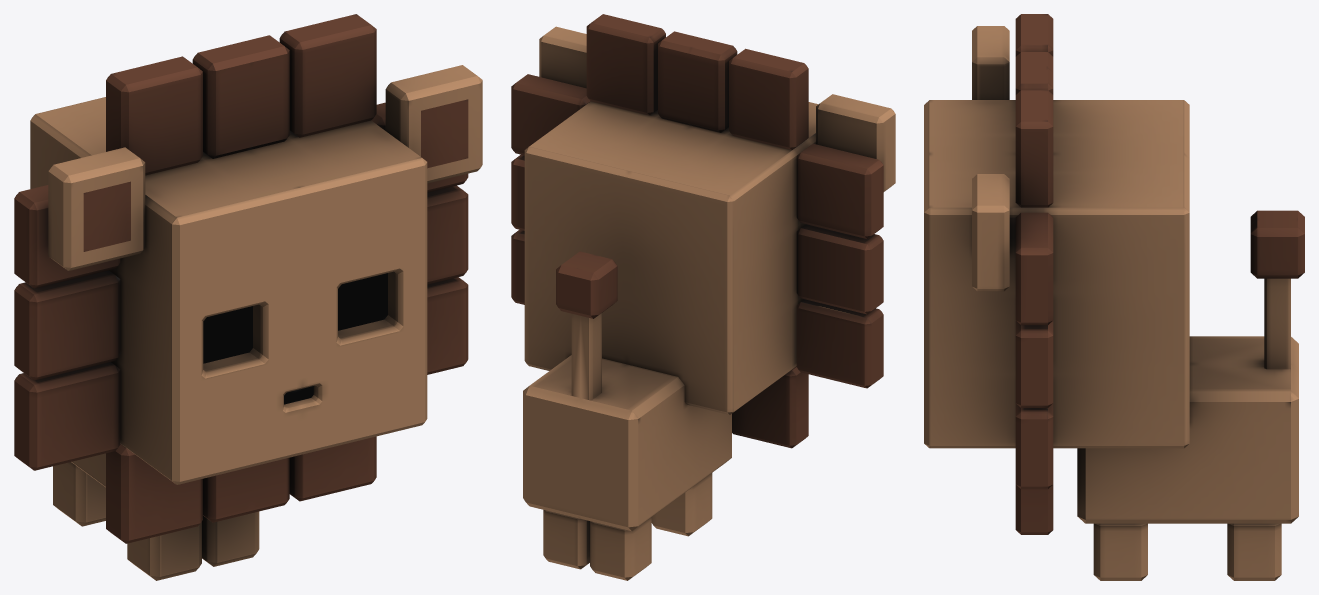
File: Lion.FBX
The picture shows the model from 3 angles, left to right: view 1: azimuth 30°, elevation 25°; view 2: azimuth 150°, elevation 25°; view 3: azimuth 270°, elevation 25°; orthographic projection. The views are drawn at different scales.
Parts seen in each view (by area): view 1: Box77; view 2: Box77; view 3: Box77.
Part boxes in pixels (box(x1,y1,x2,y2)): Box77: box(14, 14, 482, 580); Box77: box(511, 14, 895, 580); Box77: box(924, 14, 1304, 580).
Bounding box in the file's own units: 8.59 × 10.22 × 7.17.
1 material, 1 textured.
